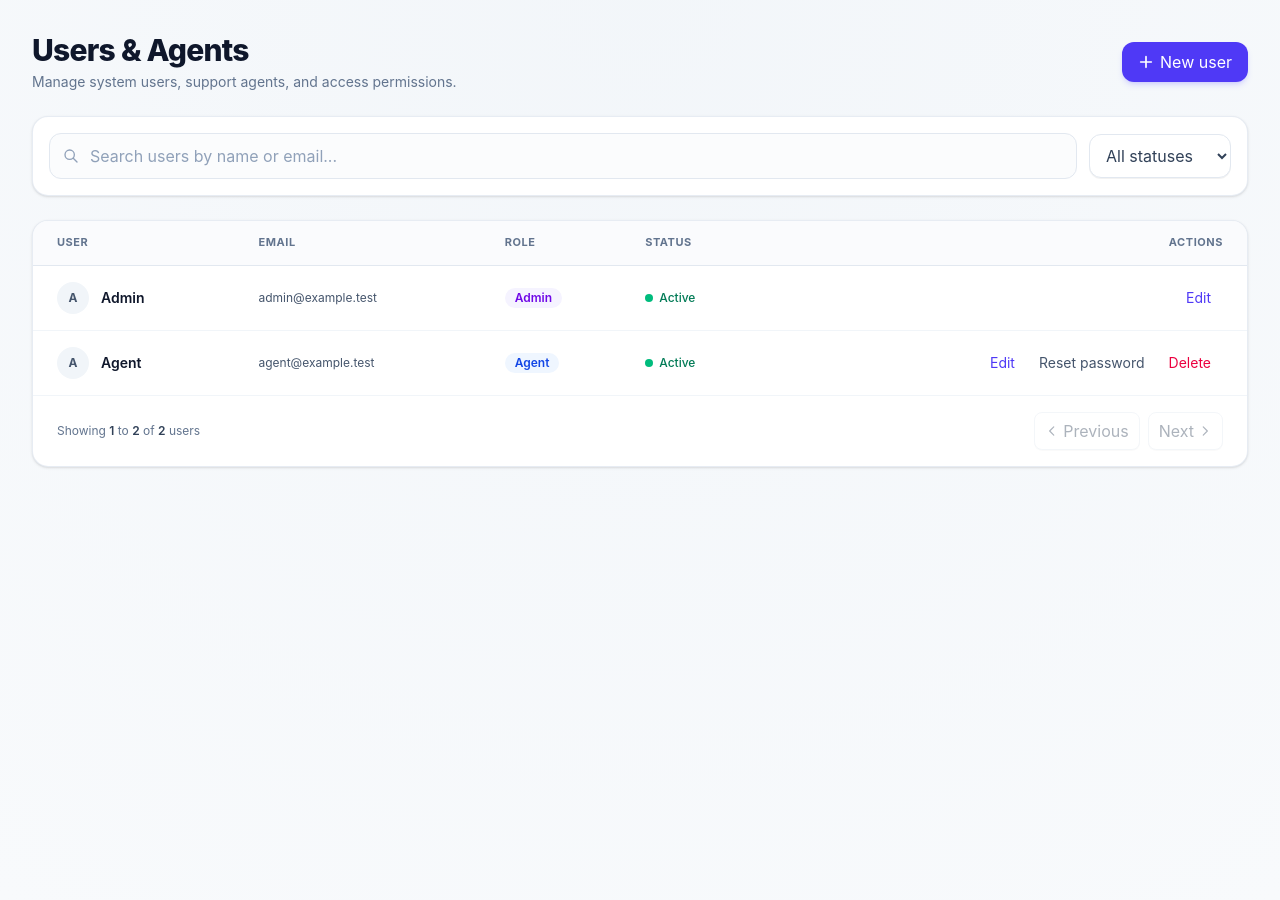
Test case: AdminUsersView — row actions › opens the password dialog for another user
Click the button with test id "users-reset-password".
click(1092, 363)  # box [1027,349,1157,377]
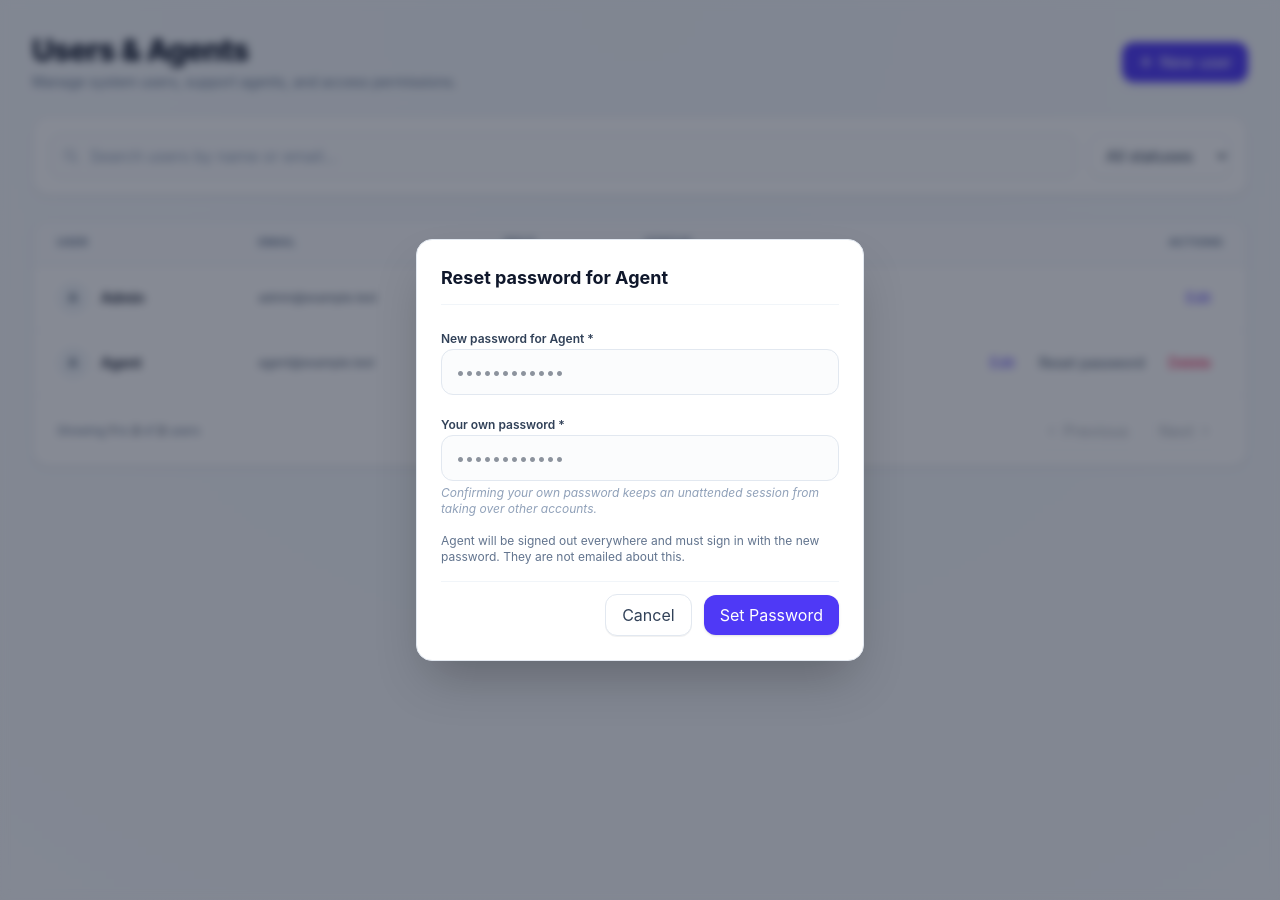
Check: the form with test id "user-password-form" is shown, box [441,325,839,636]
